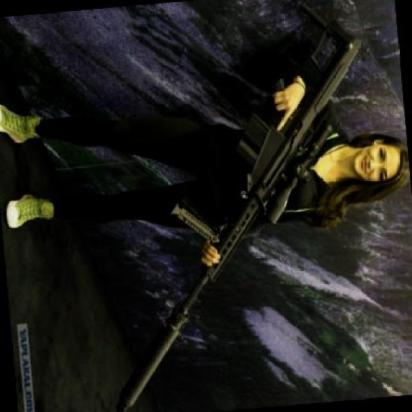Gun: (116, 31, 365, 404)
